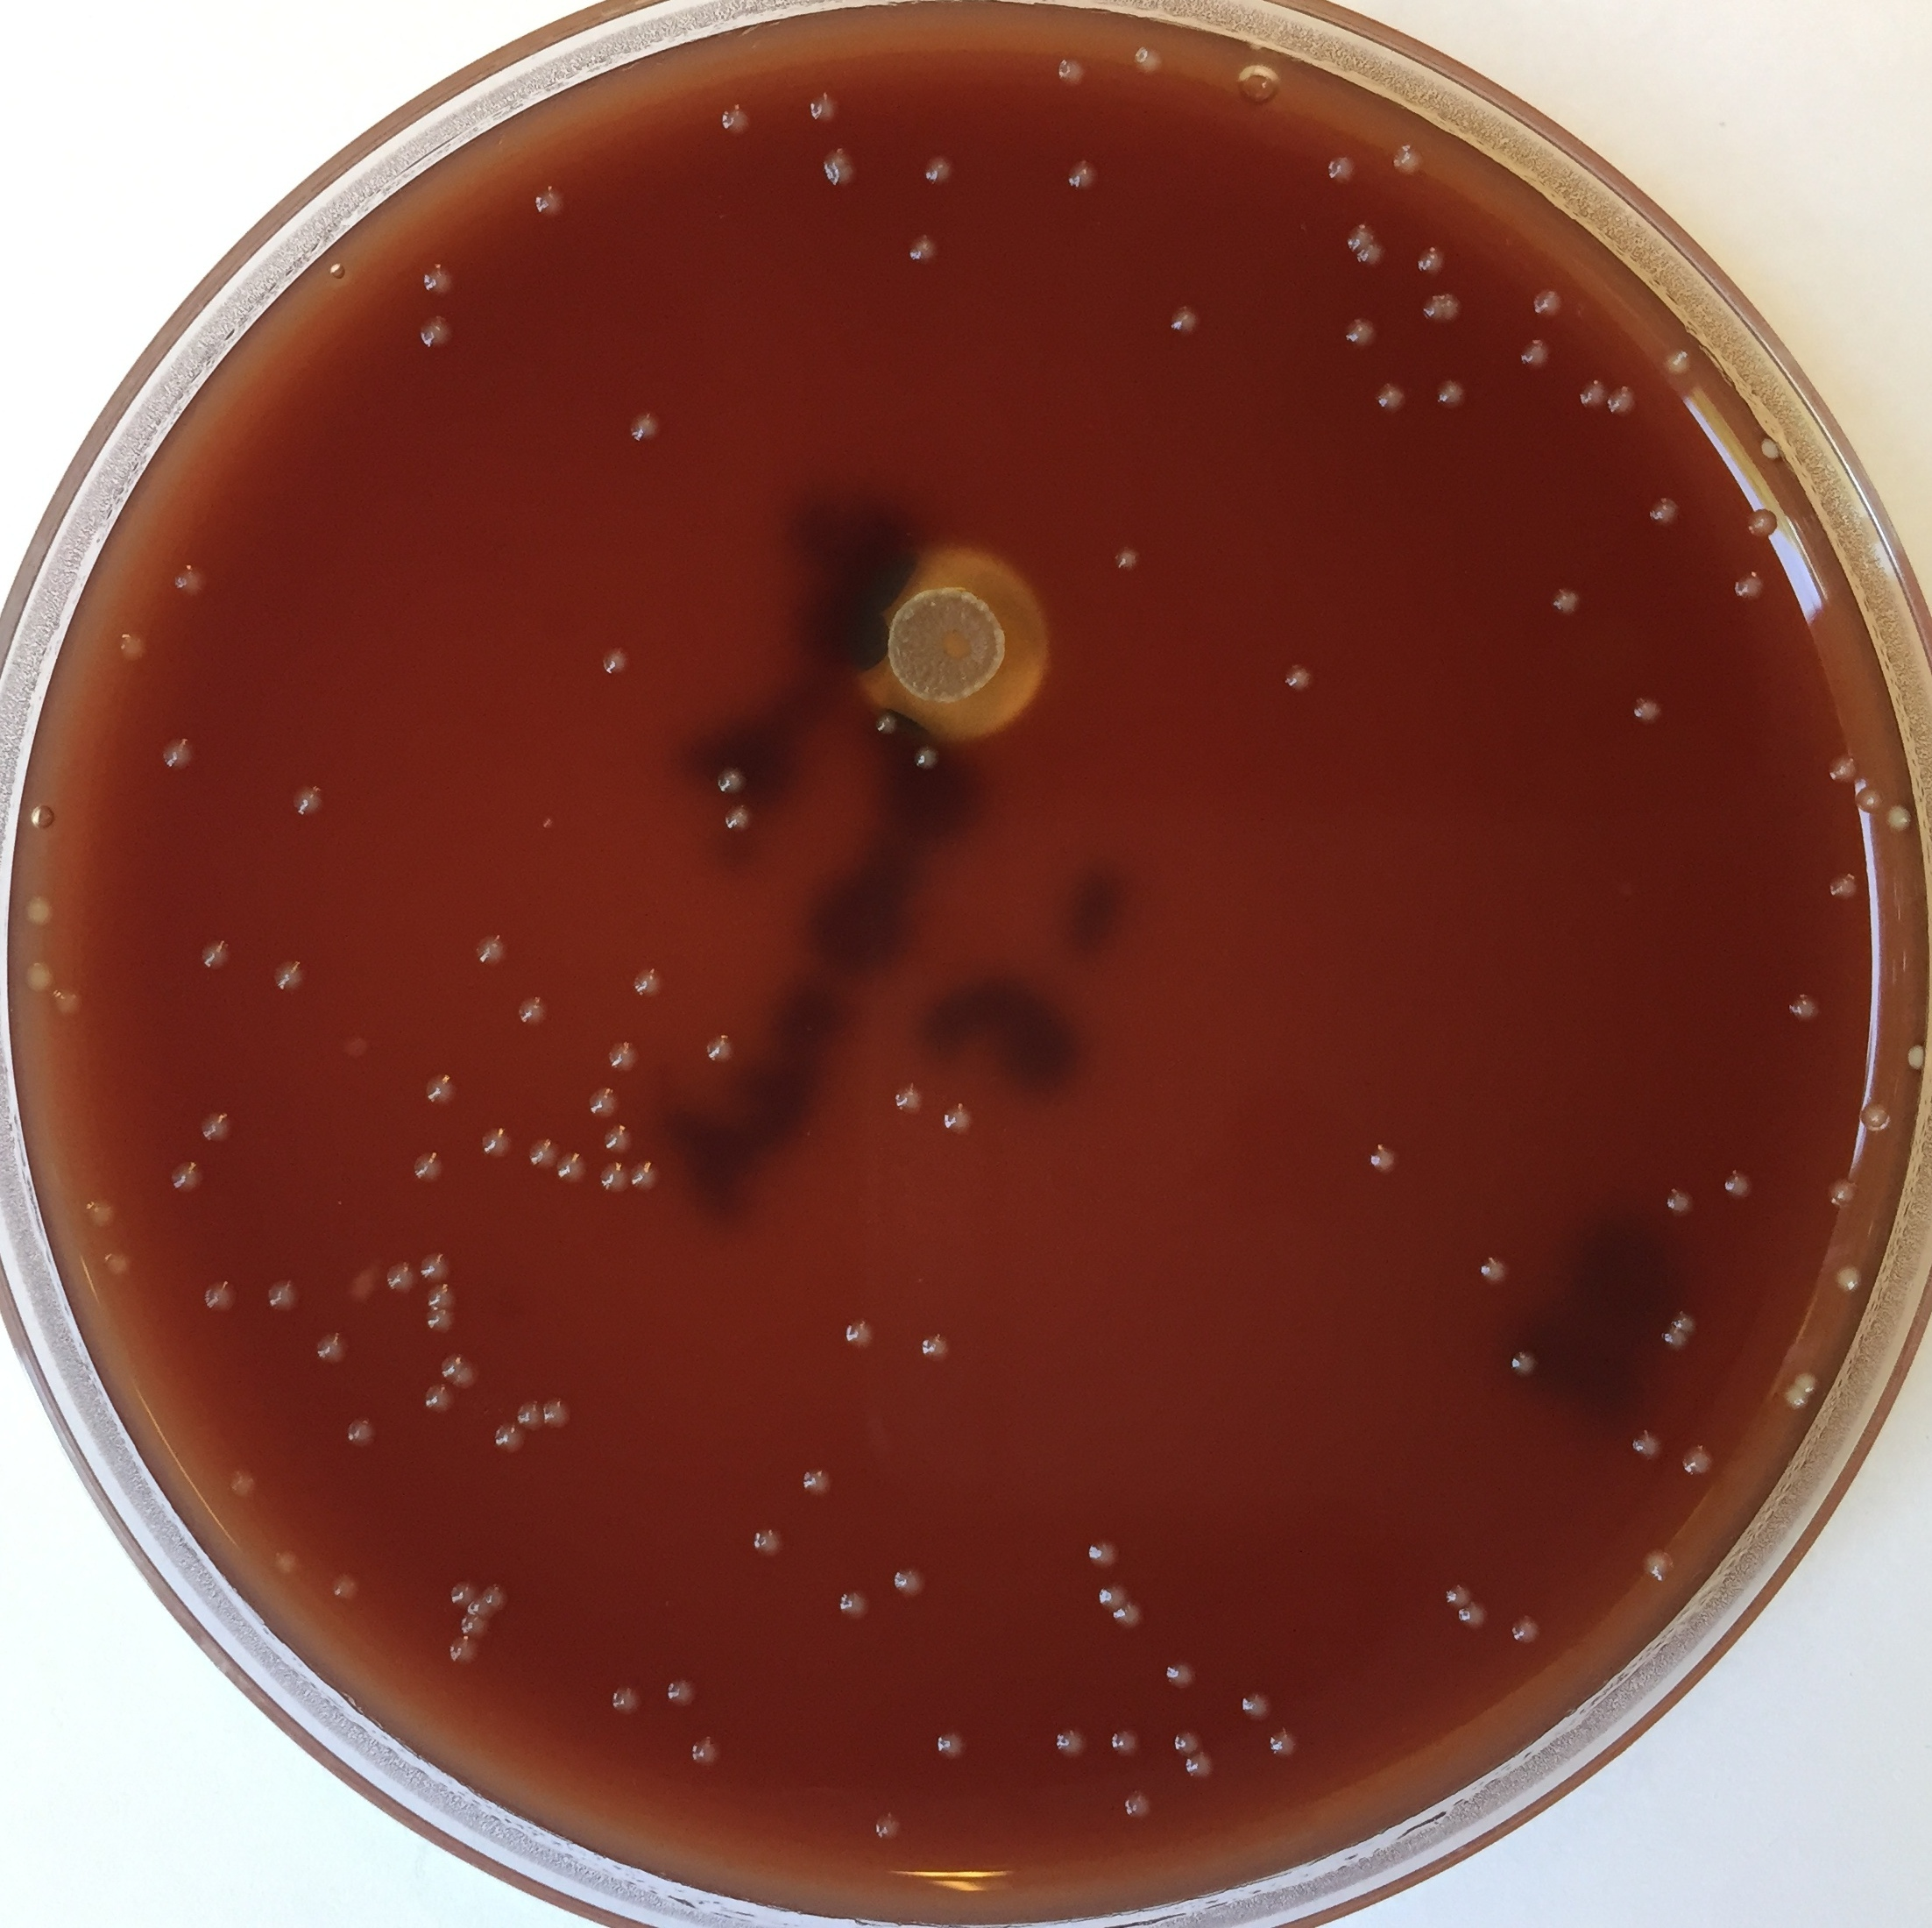sp06: (600, 644, 648, 701), (906, 740, 948, 795), (332, 1029, 378, 1075), (625, 1153, 668, 1197), (166, 1156, 207, 1201), (290, 777, 330, 819), (46, 982, 90, 1020), (19, 888, 58, 932), (198, 1105, 237, 1148), (940, 1100, 978, 1141), (510, 1391, 547, 1434), (1127, 39, 1164, 81), (419, 313, 457, 351), (115, 627, 152, 667), (516, 990, 551, 1033), (1264, 1721, 1302, 1760), (1280, 659, 1317, 697), (632, 964, 671, 1001), (171, 563, 208, 602), (81, 1195, 120, 1232), (1641, 1543, 1676, 1584), (1658, 1186, 1699, 1222), (821, 145, 857, 185), (419, 260, 454, 300), (1787, 985, 1821, 1028), (159, 731, 192, 773), (491, 1420, 528, 1457), (1727, 565, 1764, 602), (1510, 1608, 1545, 1647), (200, 938, 238, 973), (265, 1277, 302, 1312), (316, 1328, 353, 1363), (611, 1681, 646, 1718), (689, 1734, 724, 1771), (1095, 1577, 1130, 1614), (1824, 750, 1860, 787), (608, 1038, 643, 1075), (1086, 1538, 1125, 1571), (1365, 1142, 1404, 1176), (1628, 694, 1667, 727), (1747, 501, 1780, 540), (101, 1248, 134, 1287), (226, 1465, 261, 1501), (892, 1563, 927, 1598), (1517, 335, 1552, 371), (1392, 141, 1427, 177), (385, 1259, 419, 1296), (420, 1379, 454, 1416), (1053, 1725, 1090, 1759), (1372, 383, 1409, 417), (1658, 344, 1695, 378), (586, 1084, 620, 1121), (602, 1119, 636, 1156), (597, 1158, 630, 1195), (841, 1315, 874, 1352), (800, 1464, 834, 1501), (630, 404, 660, 445), (556, 1146, 586, 1186), (1107, 1725, 1143, 1759), (1238, 1688, 1272, 1723), (1630, 1427, 1664, 1462), (1551, 583, 1586, 616), (1346, 314, 1379, 350), (1425, 290, 1459, 325), (1432, 376, 1466, 411), (1531, 284, 1565, 320), (1054, 55, 1090, 88), (533, 185, 567, 221), (715, 763, 749, 798), (344, 1416, 381, 1448), (1649, 491, 1681, 528), (1167, 302, 1199, 339), (719, 104, 756, 136), (480, 1125, 512, 1162), (835, 1585, 869, 1619), (1831, 1262, 1865, 1296), (1605, 385, 1639, 418), (424, 1070, 457, 1103), (275, 957, 309, 990), (892, 1081, 925, 1114), (479, 1577, 510, 1612), (754, 1524, 786, 1559), (934, 1725, 966, 1760), (1162, 1658, 1197, 1690), (1681, 1441, 1713, 1476), (1476, 1257, 1512, 1289), (1861, 1096, 1893, 1132), (472, 932, 503, 968), (920, 1328, 952, 1363), (544, 1395, 574, 1432), (1121, 1787, 1151, 1824), (1185, 1746, 1215, 1783), (205, 1277, 238, 1308), (1109, 1600, 1143, 1631), (1508, 1347, 1542, 1379), (1828, 1174, 1860, 1208), (1828, 869, 1860, 902), (1324, 152, 1356, 185), (908, 231, 940, 265), (708, 1033, 740, 1066), (530, 1135, 562, 1169), (450, 1633, 480, 1668), (924, 152, 952, 189), (348, 1259, 374, 1298), (1173, 1725, 1204, 1757), (807, 90, 839, 122), (23, 960, 55, 992), (422, 1248, 452, 1282), (456, 1612, 489, 1642), (871, 1808, 904, 1838), (1722, 1167, 1752, 1201), (722, 802, 752, 835), (427, 1278, 456, 1314), (1457, 1603, 1492, 1631), (411, 1149, 441, 1181), (668, 1672, 696, 1706), (1443, 1580, 1476, 1608), (1344, 221, 1372, 254), (1577, 378, 1605, 411), (1067, 159, 1098, 187), (452, 1359, 480, 1390), (330, 1573, 358, 1603), (450, 1577, 479, 1607), (1415, 245, 1445, 274), (272, 1547, 304, 1573), (1780, 1382, 1807, 1414), (1886, 802, 1913, 833), (1755, 434, 1782, 466), (1791, 1368, 1819, 1397), (1356, 242, 1385, 270), (424, 1312, 456, 1337), (1657, 1326, 1688, 1351), (1114, 544, 1139, 576), (1906, 1042, 1928, 1073), (440, 1349, 463, 1379), (1854, 784, 1879, 810), (1672, 1310, 1695, 1333), (876, 712, 895, 734)
